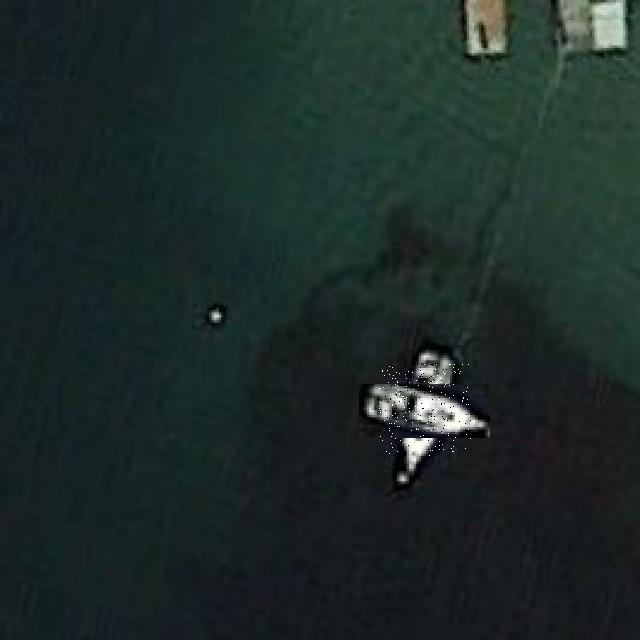boat: (378, 364, 471, 457)
